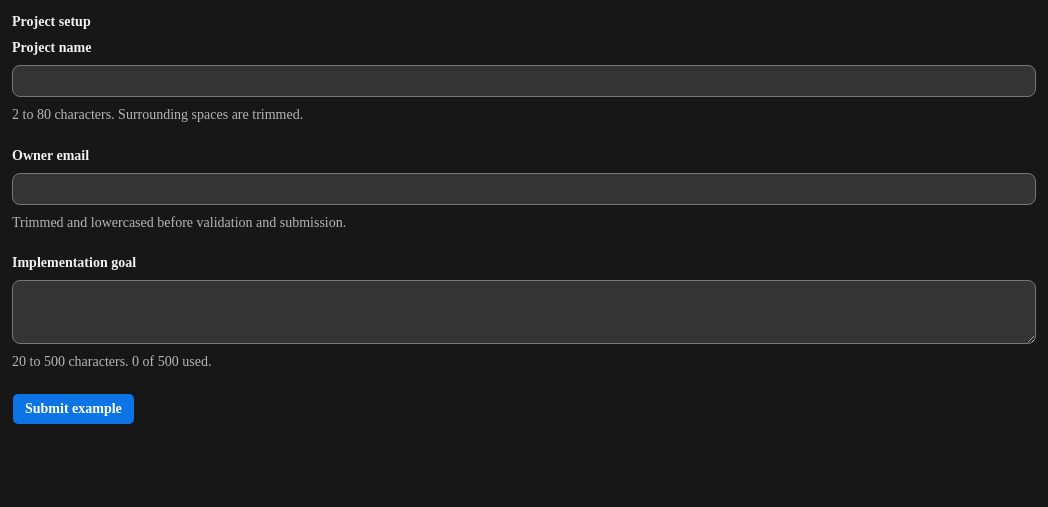
Scenario: ReferenceForm — submission › falls back to the generic message when the failure is not contract-shaped
Step 1. Type "Atlas" into the field labelled "Project name" → (524, 81), box [12, 65, 1036, 97]
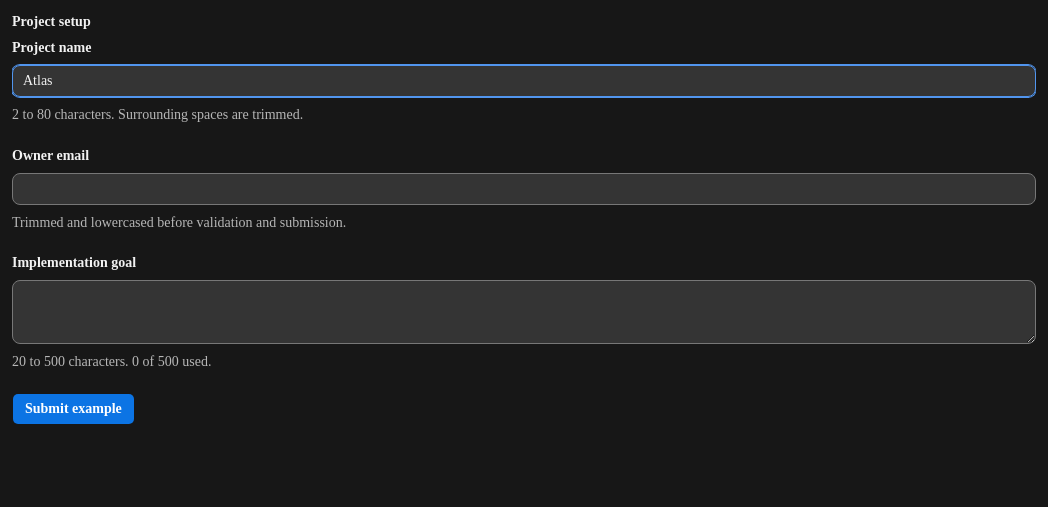
Step 2. Type "owner@example.com" into the field labelled "Owner email" → (524, 189), box [12, 173, 1036, 205]
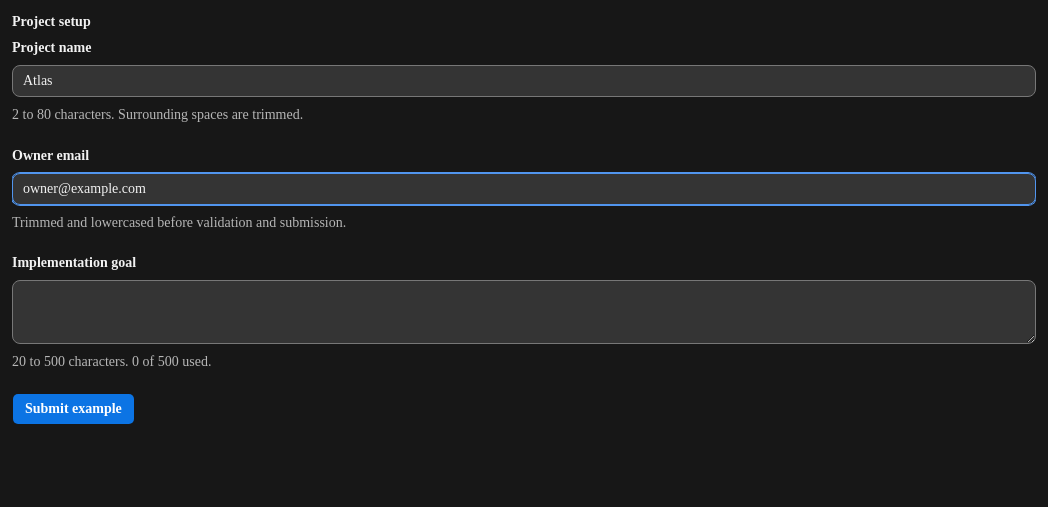
Step 3. Type "Prove the reference wiring end to end." into the text box labelled "Implementation goal" → (524, 312), box [12, 280, 1036, 344]
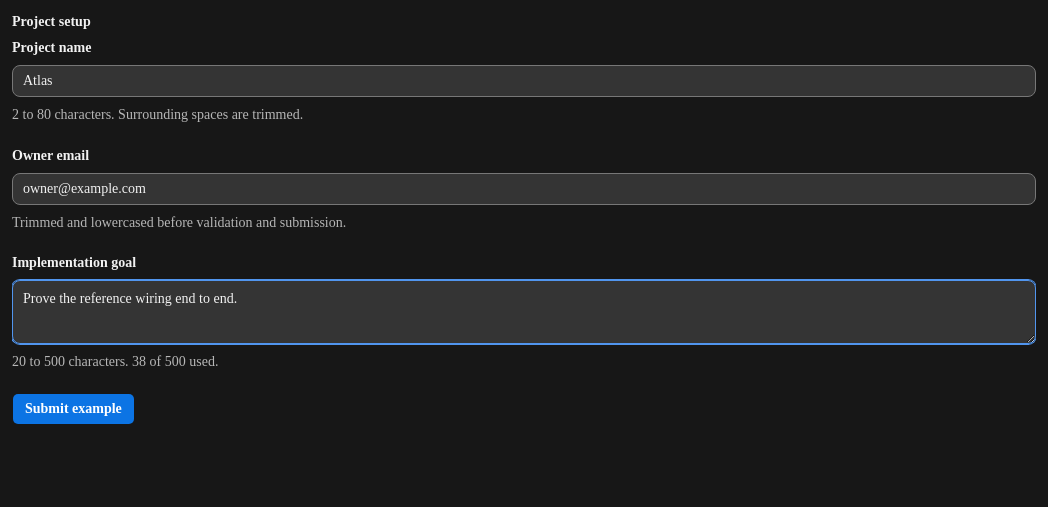
Step 4. Click the button → (73, 409), box [12, 393, 135, 425]
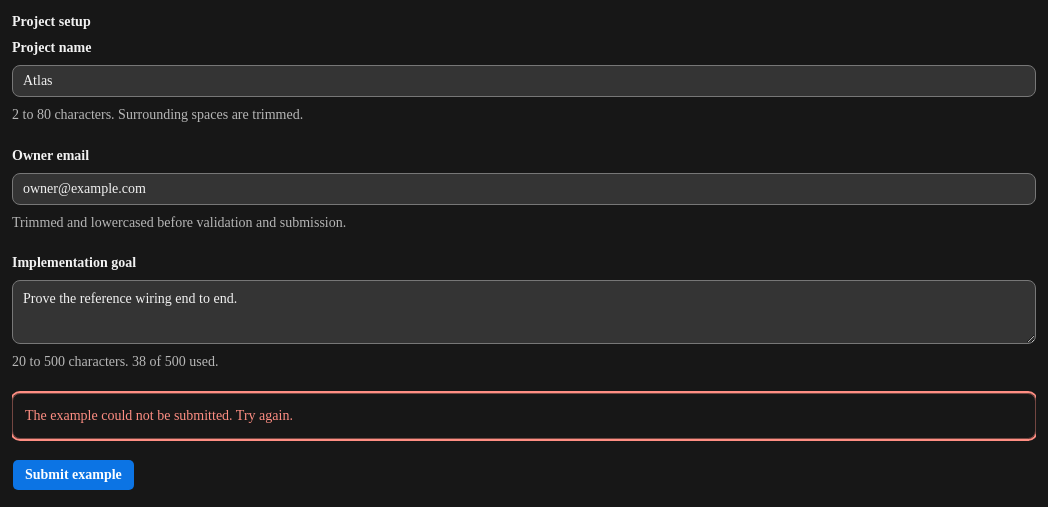
Now the message reads "The example could not be submitted. Try again.", box [25, 408, 293, 423]
